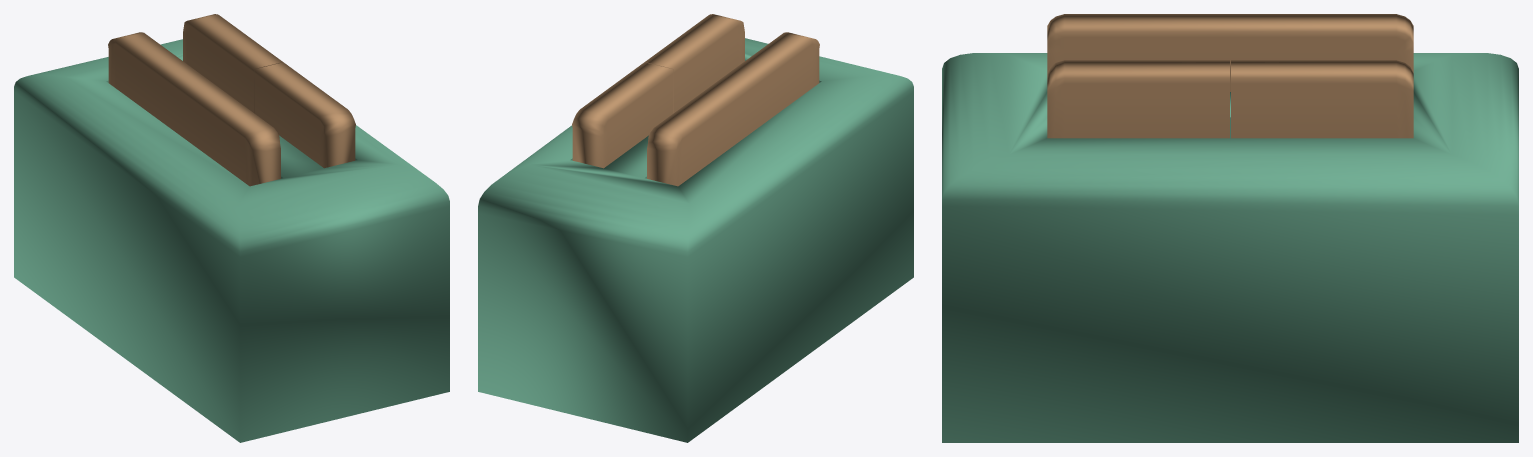
Rendered from toaster.fbx.
3 renders of one model, left to right at view 1: azimuth 30°, elevation 25°; view 2: azimuth 150°, elevation 25°; view 3: azimuth 270°, elevation 25°, orthographic. The views are drawn at different scales.
Visible parts, largest first — view 1: Cube, Cube.002; view 2: Cube, Cube.002; view 3: Cube, Cube.002.
Part boxes in pixels (left/top/right/bottom): Cube: left=14, top=39, right=449, bottom=442; Cube.002: left=108, top=14, right=355, bottom=186; Cube: left=478, top=38, right=913, bottom=442; Cube.002: left=572, top=14, right=819, bottom=186; Cube: left=942, top=53, right=1518, bottom=442; Cube.002: left=1047, top=14, right=1413, bottom=138.
Bounding box in the file's own units: 2.31 × 2.74 × 4.31.
